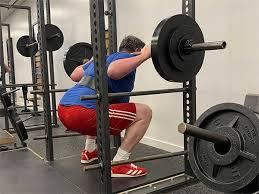Barbell: (221, 40, 229, 51)
